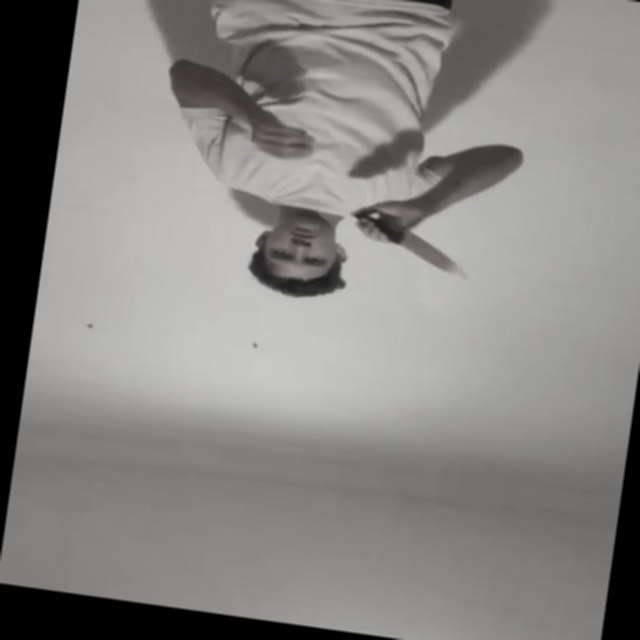Sharp-Object: (395, 234, 474, 284)
